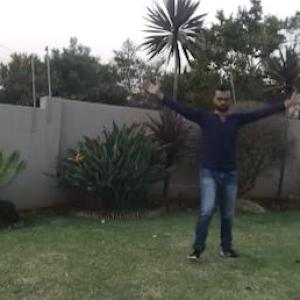takeoff: (139, 79, 299, 258)
